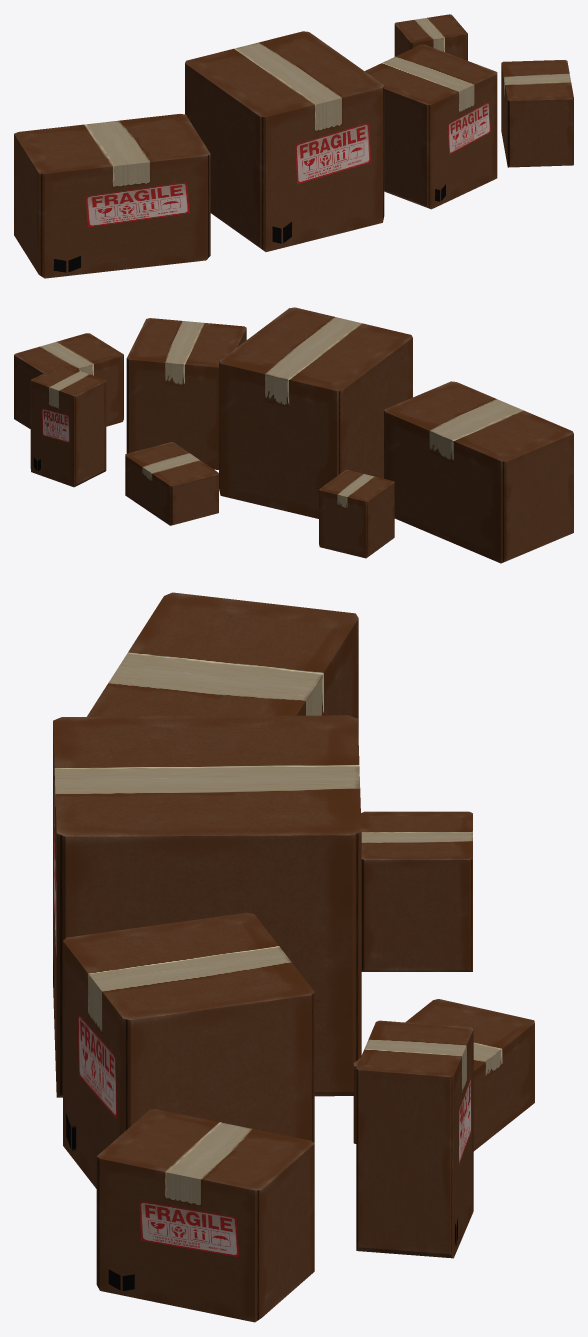
File: box_pile3.fbx
The picture shows the model from 3 angles, top to bottom: view 1: azimuth 30°, elevation 25°; view 2: azimuth 150°, elevation 25°; view 3: azimuth 270°, elevation 25°; orthographic projection. The views are drawn at different scales.
Parts seen in each view (by area): view 1: pile_boite_1; view 2: pile_boite_1; view 3: pile_boite_1.
Boxes of the visible parts, bbox=[...] form: pile_boite_1: bbox=[14, 14, 573, 278]; pile_boite_1: bbox=[14, 307, 573, 563]; pile_boite_1: bbox=[53, 592, 534, 1322].
Size of the model in its own units: 542 by 127 by 210.
